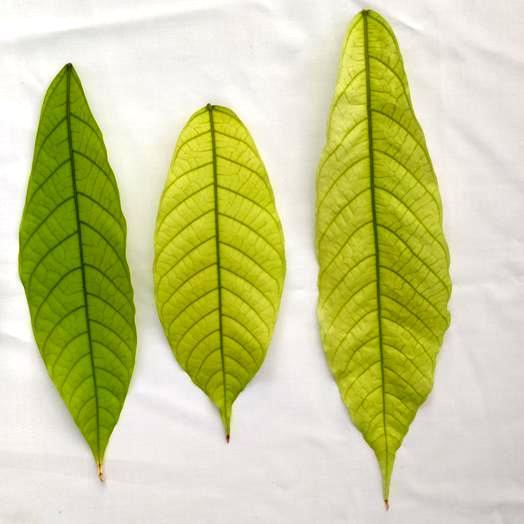Iron: (317, 11, 451, 507), (19, 64, 134, 477), (154, 104, 285, 441)
